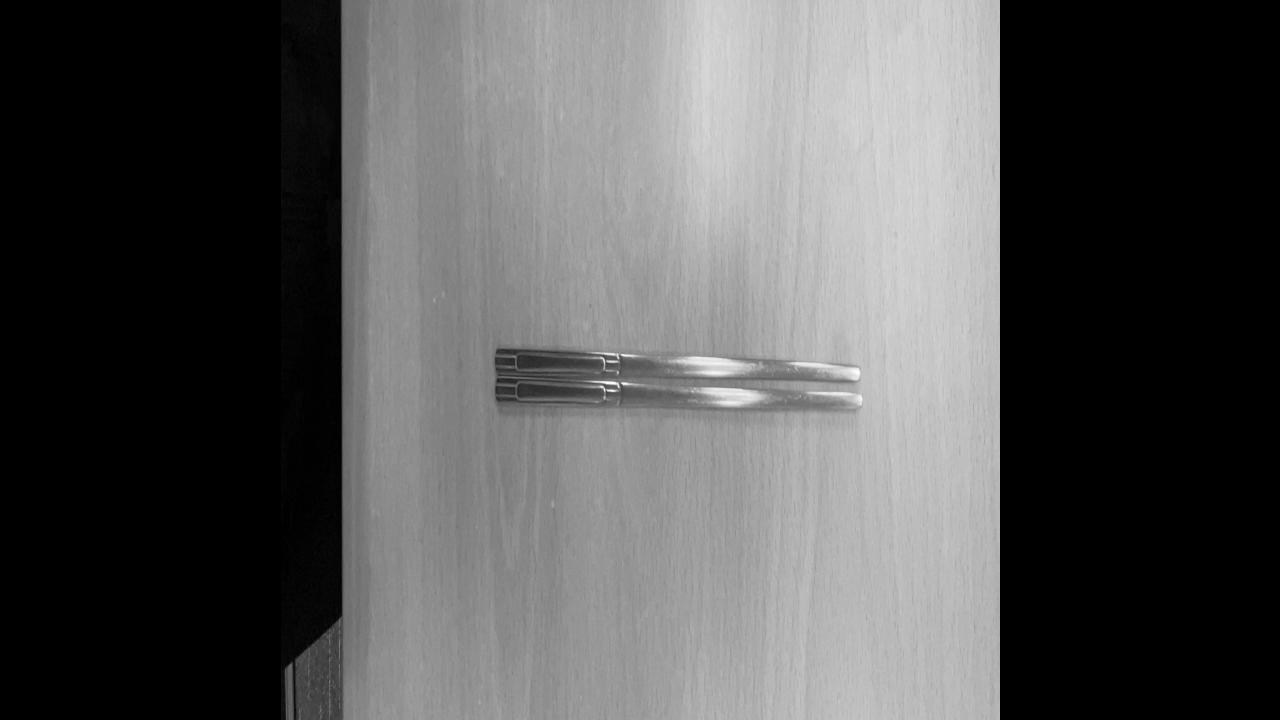chopstick: (492, 342, 864, 410)
